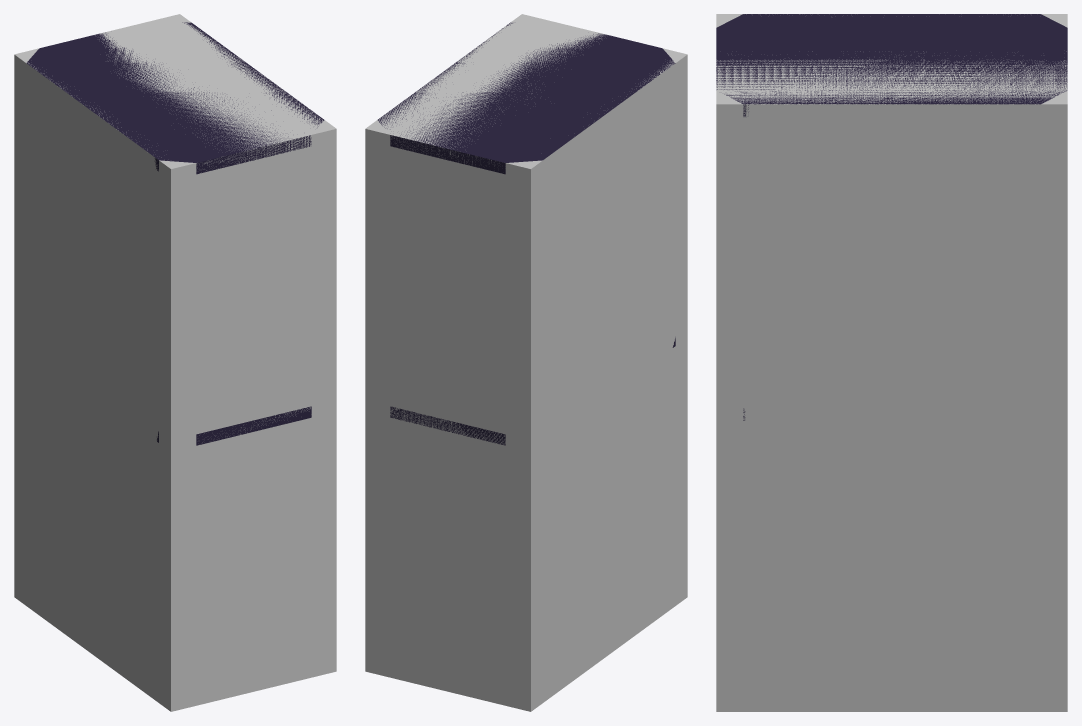
File: SM_Skyscraper_02.fbx
3 renders of one model, left to right at view 1: azimuth 30°, elevation 25°; view 2: azimuth 150°, elevation 25°; view 3: azimuth 270°, elevation 25°, orthographic. The views are drawn at different scales.
Parts seen in each view (by area): view 1: SM_Skyscraper_02_ConvexHulls, SM_Skyscraper_02; view 2: SM_Skyscraper_02_ConvexHulls, SM_Skyscraper_02; view 3: SM_Skyscraper_02_ConvexHulls, SM_Skyscraper_02.
Part boxes in pixels (x1=…): SM_Skyscraper_02_ConvexHulls: x1=14, y1=14, x2=336, y2=711; SM_Skyscraper_02: x1=27, y1=22, x2=324, y2=445; SM_Skyscraper_02_ConvexHulls: x1=365, y1=14, x2=687, y2=711; SM_Skyscraper_02: x1=378, y1=22, x2=675, y2=445; SM_Skyscraper_02_ConvexHulls: x1=716, y1=14, x2=1067, y2=711; SM_Skyscraper_02: x1=716, y1=14, x2=1067, y2=420.
Bounding box in the file's own units: 351 × 576 × 1099.
